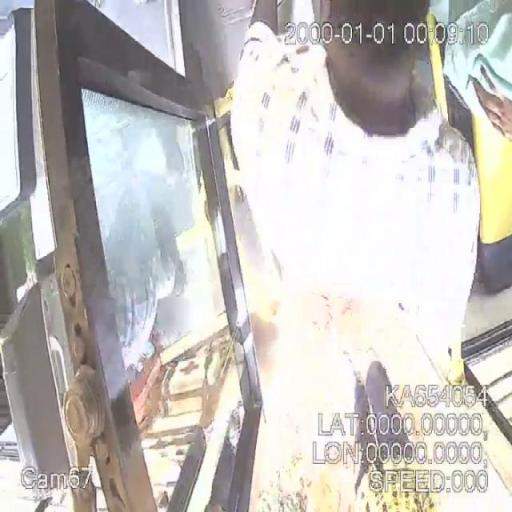persona: (227, 0, 483, 390)
